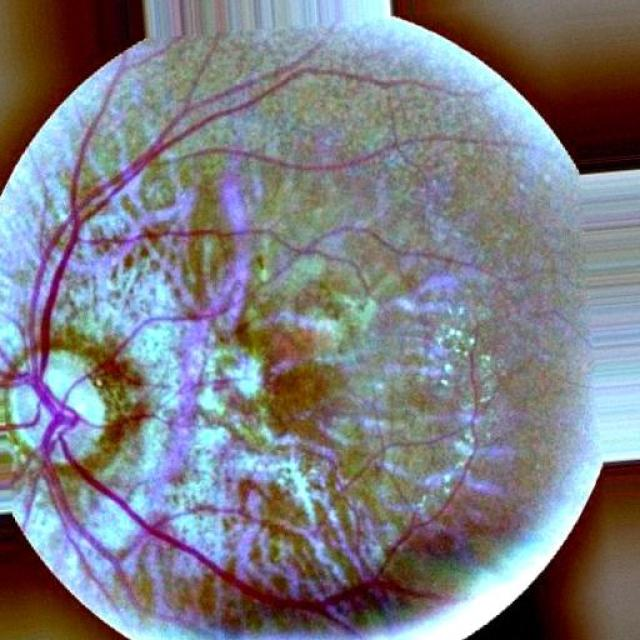Macula: (255, 331, 320, 409)
Nerves: (0, 160, 348, 628)
Optic Disk: (6, 348, 111, 466)
